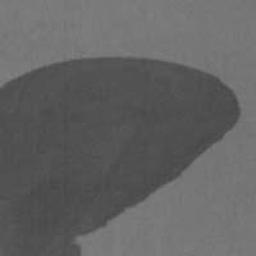Oil spot: (0, 55, 242, 256)
